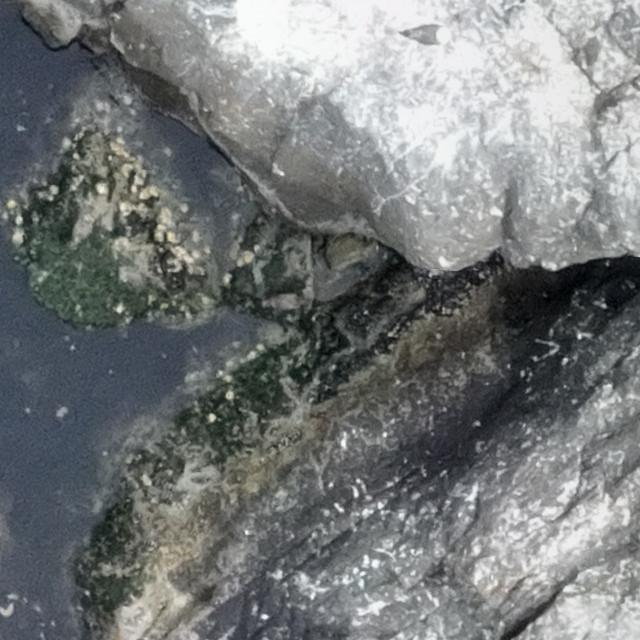umineko: (407, 26, 449, 44)
